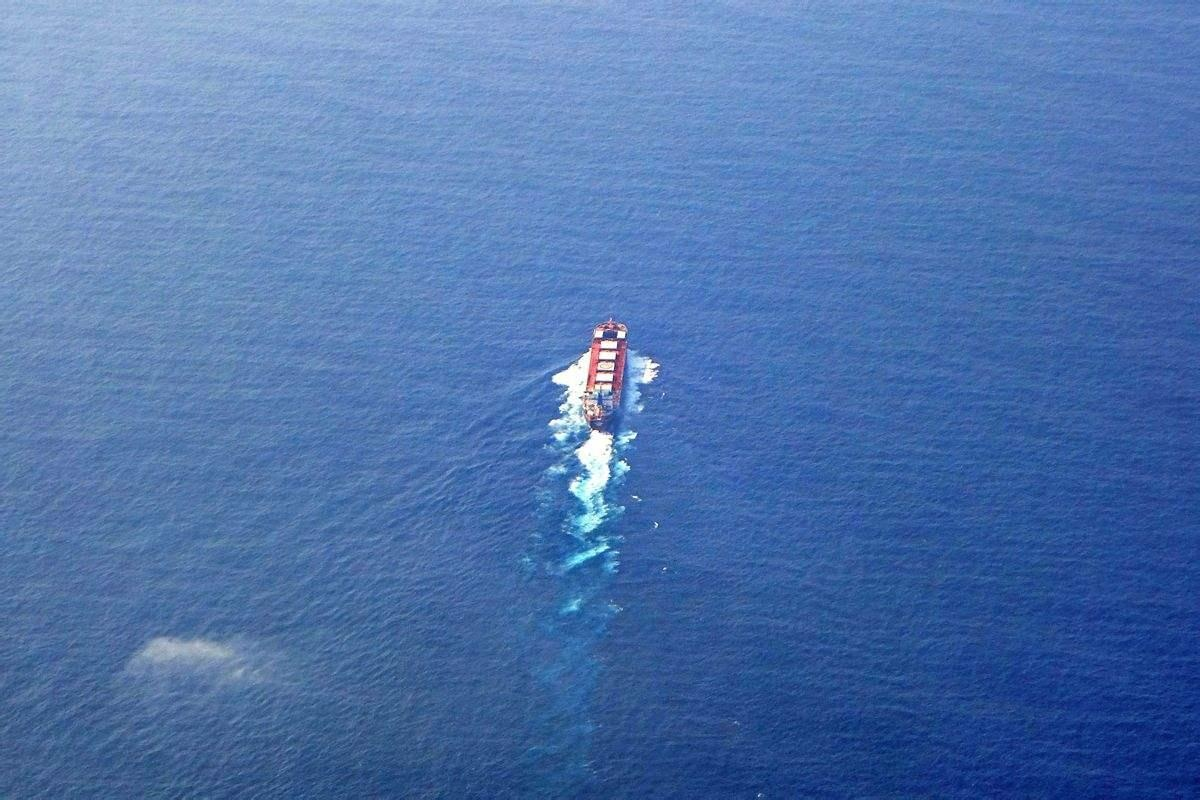Cargoship: (582, 313, 634, 430)
